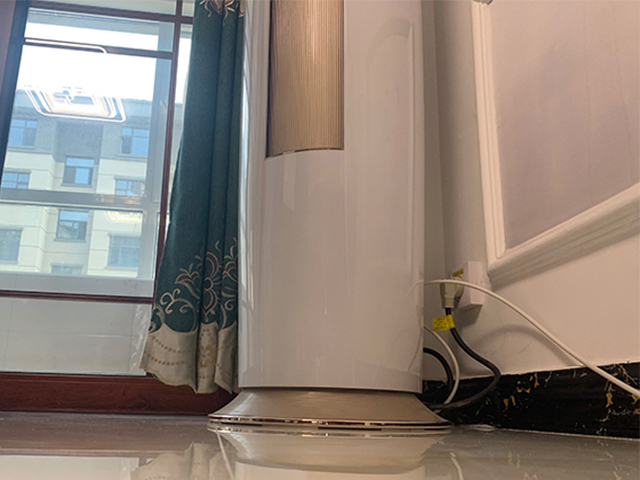curtain: (140, 1, 248, 393)
wire: (421, 278, 640, 416)
